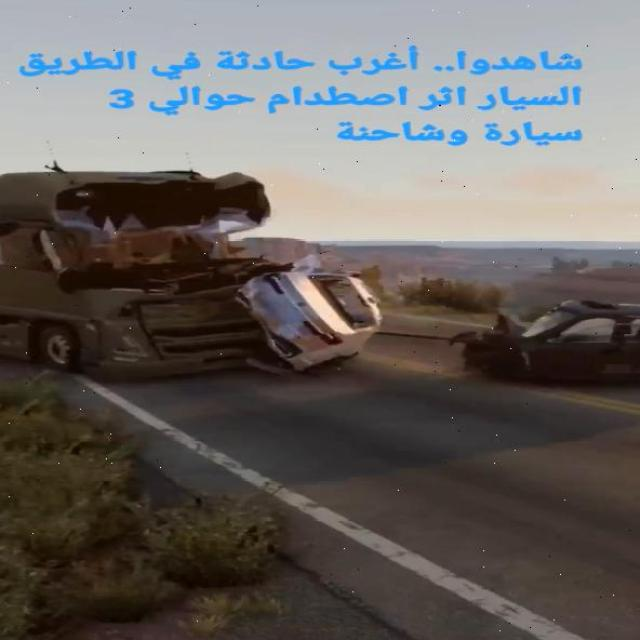accident: (0, 171, 378, 371)
